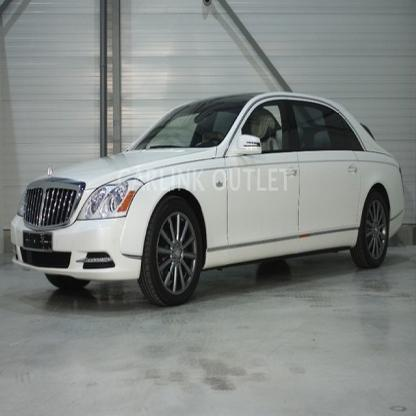Vehicle: (10, 93, 405, 308)
